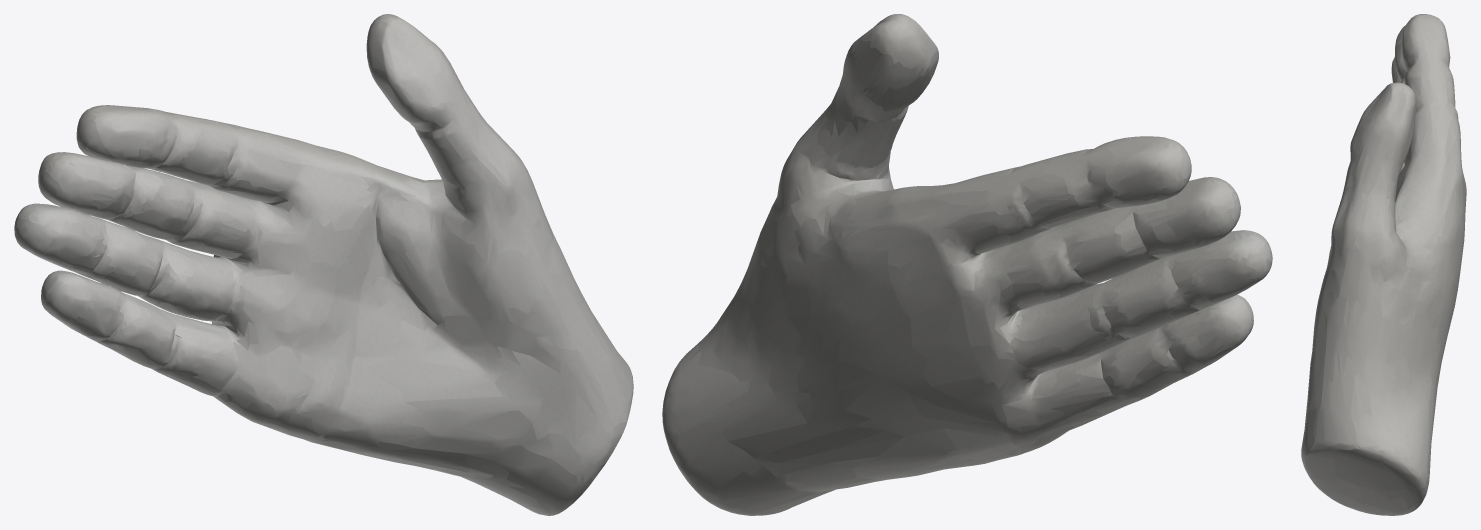
File: mano_aperta.glb
3 views of the same model, side by side, from view 1: azimuth 30°, elevation 25°; view 2: azimuth 150°, elevation 25°; view 3: azimuth 270°, elevation 25° (orthographic). The views are drawn at different scales.
Parts seen in each view (by area): view 1: Mesh_0; view 2: Mesh_0; view 3: Mesh_0.
Boxes of the visible parts, left/top/right/bottom form: Mesh_0: left=14, top=14, right=633, bottom=515; Mesh_0: left=662, top=14, right=1272, bottom=515; Mesh_0: left=1301, top=14, right=1466, bottom=515.
Bounding box in the file's own units: 1.9 × 1.61 × 0.63.
1 material, 1 textured.
